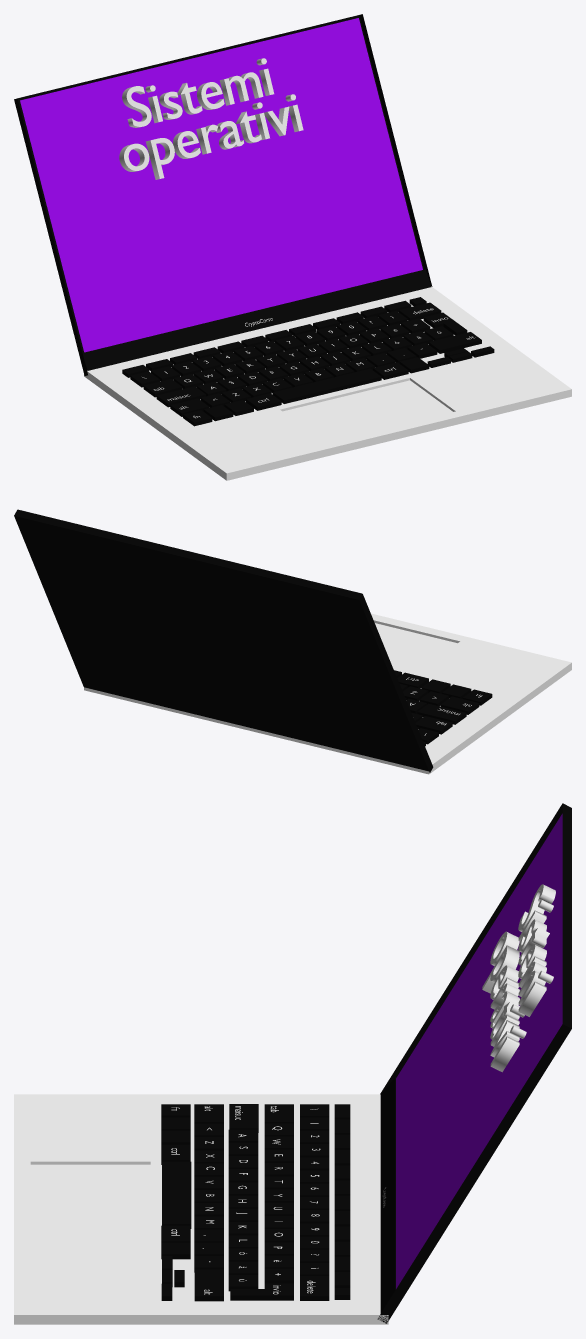
The model's file is sistemiOperativi.glb.
The picture shows the model from 3 angles, top to bottom: view 1: azimuth 30°, elevation 25°; view 2: azimuth 150°, elevation 25°; view 3: azimuth 270°, elevation 25°; orthographic projection. The views are drawn at different scales.
Visible parts, largest first — view 1: Cube.073, Cube, Cube.074, Cube.001, Text, Text.001, Cube.072, Cube.123; view 2: Cube.001, Cube, Cube.065, Cube.064, Cube.066, Cube.071; view 3: Cube, Cube.073, Cube.001, Text, Cube.074, Text.001, Cube.072, Cube.123, Cube.065, Cube.027.
Boxes of the visible parts, x1,y1,x2,y2 form: Cube.073: (20,18,422,352); Cube: (84,286,571,480); Cube.074: (82,269,431,370); Cube.001: (14,14,432,375); Text: (119,94,303,179); Text.001: (122,58,274,127); Cube.072: (272,368,381,403); Cube.123: (428,332,481,353); Cube.001: (14,509,433,772); Cube: (84,613,571,774); Cube.065: (417,703,466,724); Cube.064: (440,696,479,714); Cube.066: (415,716,452,734); Cube.071: (397,672,428,688); Cube: (14,1094,388,1324); Cube.073: (396,813,562,1288); Cube.001: (377,803,571,1323); Text: (482,931,526,1072); Cube.074: (380,1077,396,1313); Text.001: (518,884,555,1016); Cube.072: (162,1161,191,1228); Cube.123: (194,1269,223,1301); Cube.065: (229,1104,258,1132); Cube.027: (300,1276,329,1300).
Bounding box in the file's own units: 6.79 × 4.31 × 7.25.
